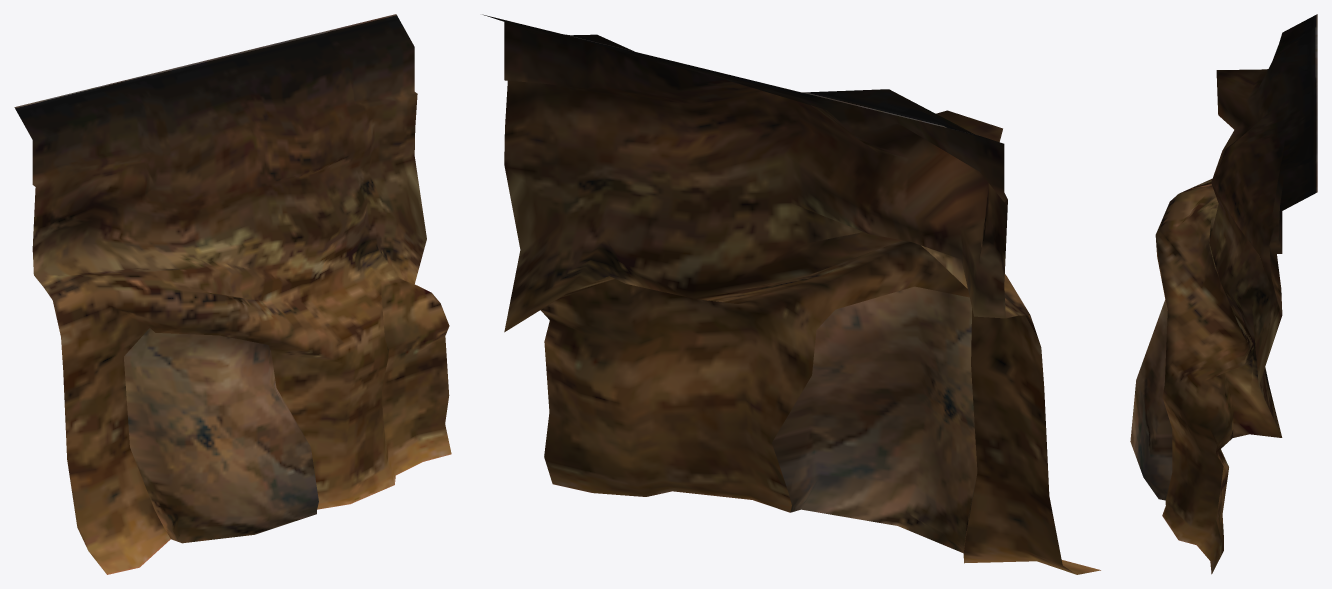
Rendered from tunnelWallA.fbx.
3 renders of one model, left to right at view 1: azimuth 30°, elevation 25°; view 2: azimuth 150°, elevation 25°; view 3: azimuth 270°, elevation 25°, orthographic. The views are drawn at different scales.
Visible parts, largest first — view 1: tunnelWallA; view 2: tunnelWallA; view 3: tunnelWallA.
Boxes of the visible parts, x1,y1,x2,y2 form: tunnelWallA: (14,14,451,574); tunnelWallA: (482,14,1100,574); tunnelWallA: (1130,14,1317,574).
Size of the model in its own units: 300 by 300 by 133.
